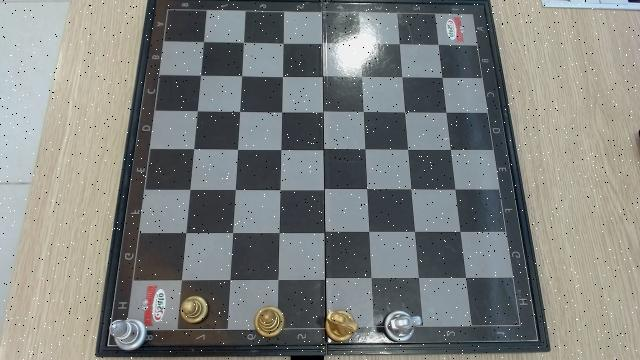black_bishop: (254, 306, 285, 338)
black_knight: (325, 309, 359, 343)
black_pawn: (179, 296, 209, 325)
white_bishop: (108, 318, 149, 353)
white_knight: (384, 310, 422, 344)
